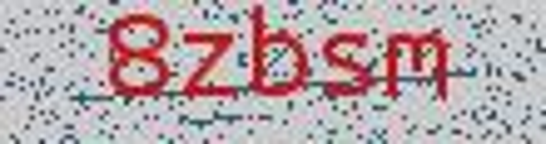8: (103, 8, 174, 116)
b: (243, 2, 310, 109)
m: (380, 23, 460, 112)
s: (314, 23, 378, 102)
z: (178, 26, 241, 117)
